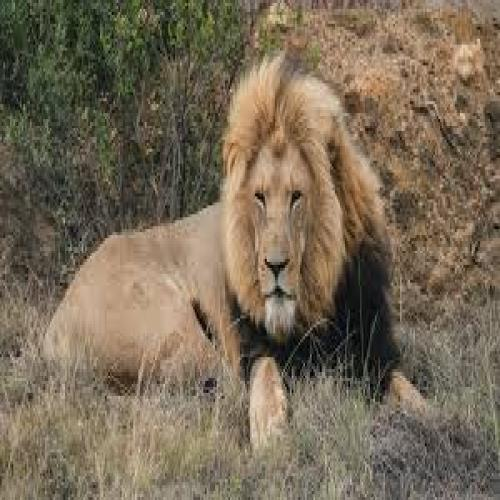lion-endangered: (52, 73, 397, 419)
